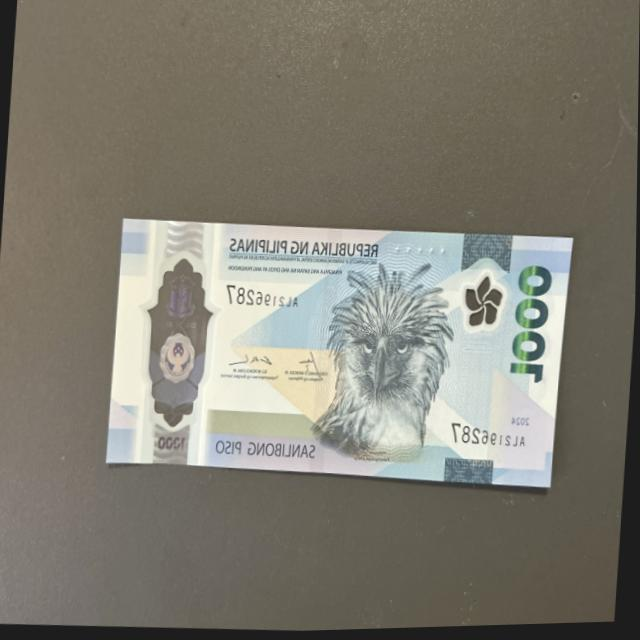clear_window: (134, 246, 215, 464)
eagle: (321, 268, 452, 471)
sampaguita: (458, 267, 505, 344)
serial_number: (220, 279, 303, 324), (441, 423, 533, 458)
value: (506, 273, 558, 387)
